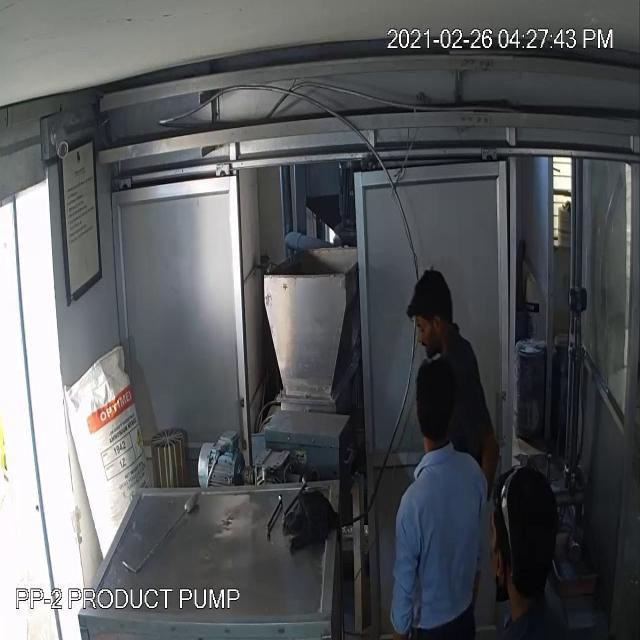no-helmet: (408, 264, 458, 335)
